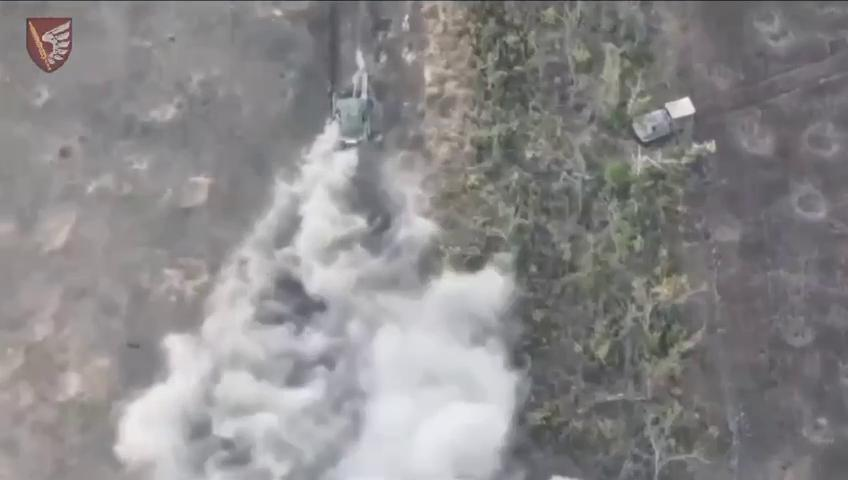tank: (631, 95, 701, 158), (326, 84, 383, 156)
